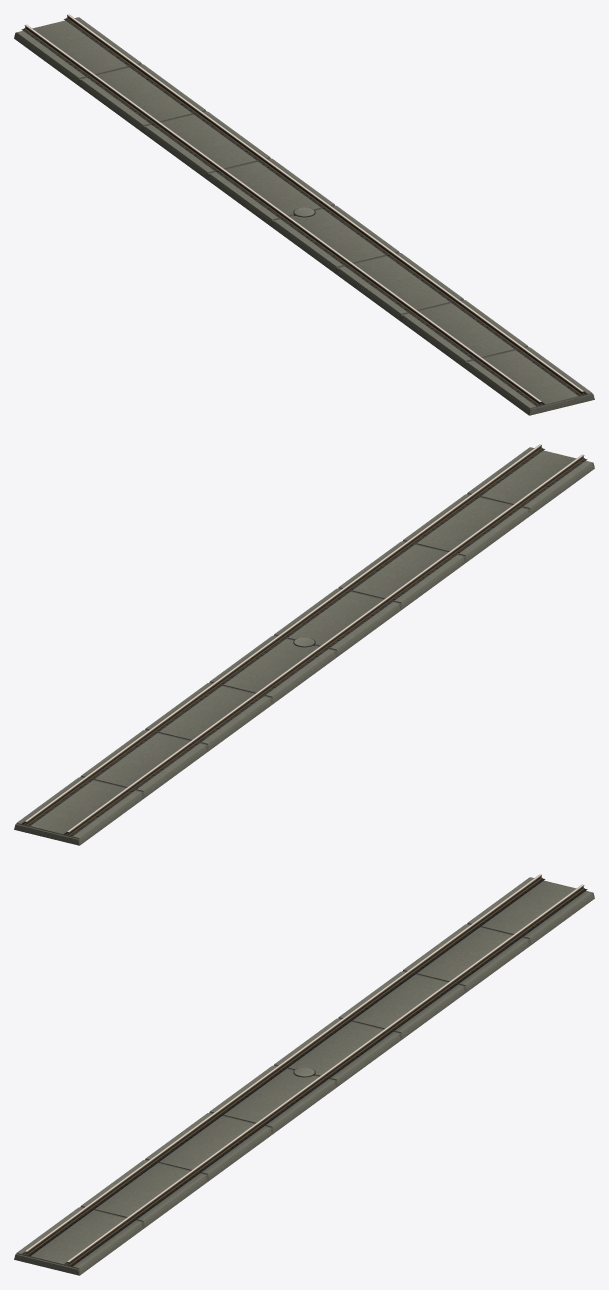
File: HT_1RAIL100_KONKURI.glb
The picture shows the model from 3 angles, top to bottom: view 1: azimuth 30°, elevation 25°; view 2: azimuth 150°, elevation 25°; view 3: azimuth 330°, elevation 25°; orthographic projection.
Visible parts, largest first — view 1: obj6; view 2: obj6; view 3: obj6.
Boxes of the visible parts, x1,y1,x2,y2 form: obj6: (14,14,594,415); obj6: (14,444,594,845); obj6: (14,874,594,1275).
Size of the model in its own units: 7.36 by 1.19 by 100.
Materials: 5 (4 with a texture image).
